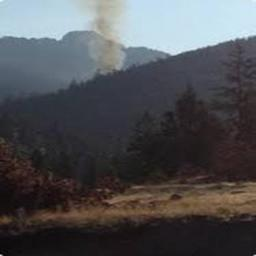Low smoke: (87, 1, 129, 83)
